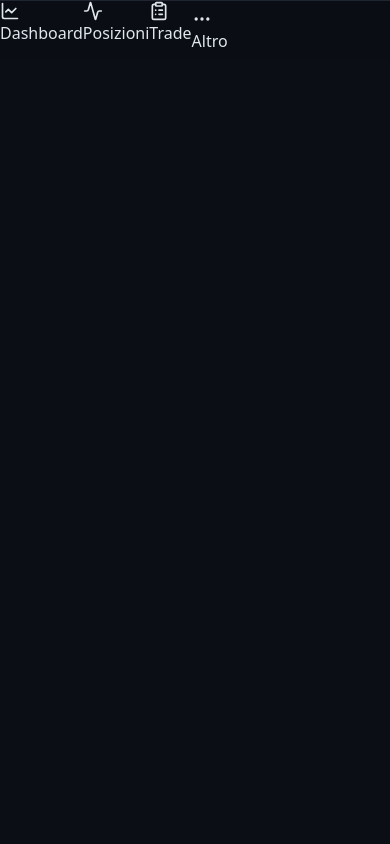
BottomNav › opens the Altro sheet listing secondary routes
This screenshot has width=390, height=844.
Click the button "Altro". click: (210, 30)
box: [192,1,228,60]
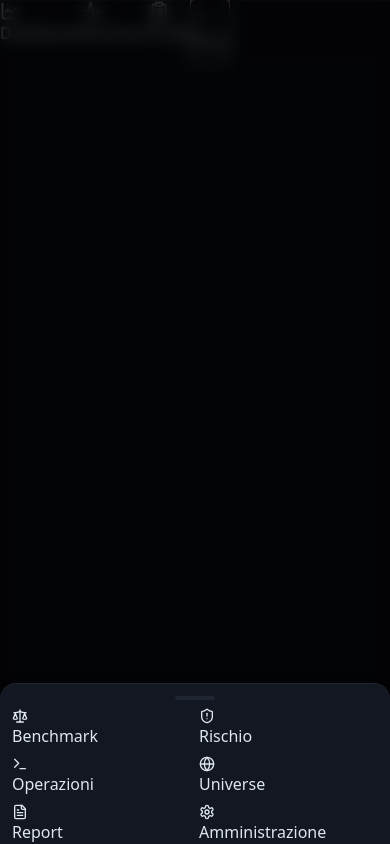
Now the button "Altro" is expanded, box [192,1,228,60]
Now the link "Universe" is shown, box [199,756,265,795]
Now the link "Report" is shown, box [12,804,63,843]
